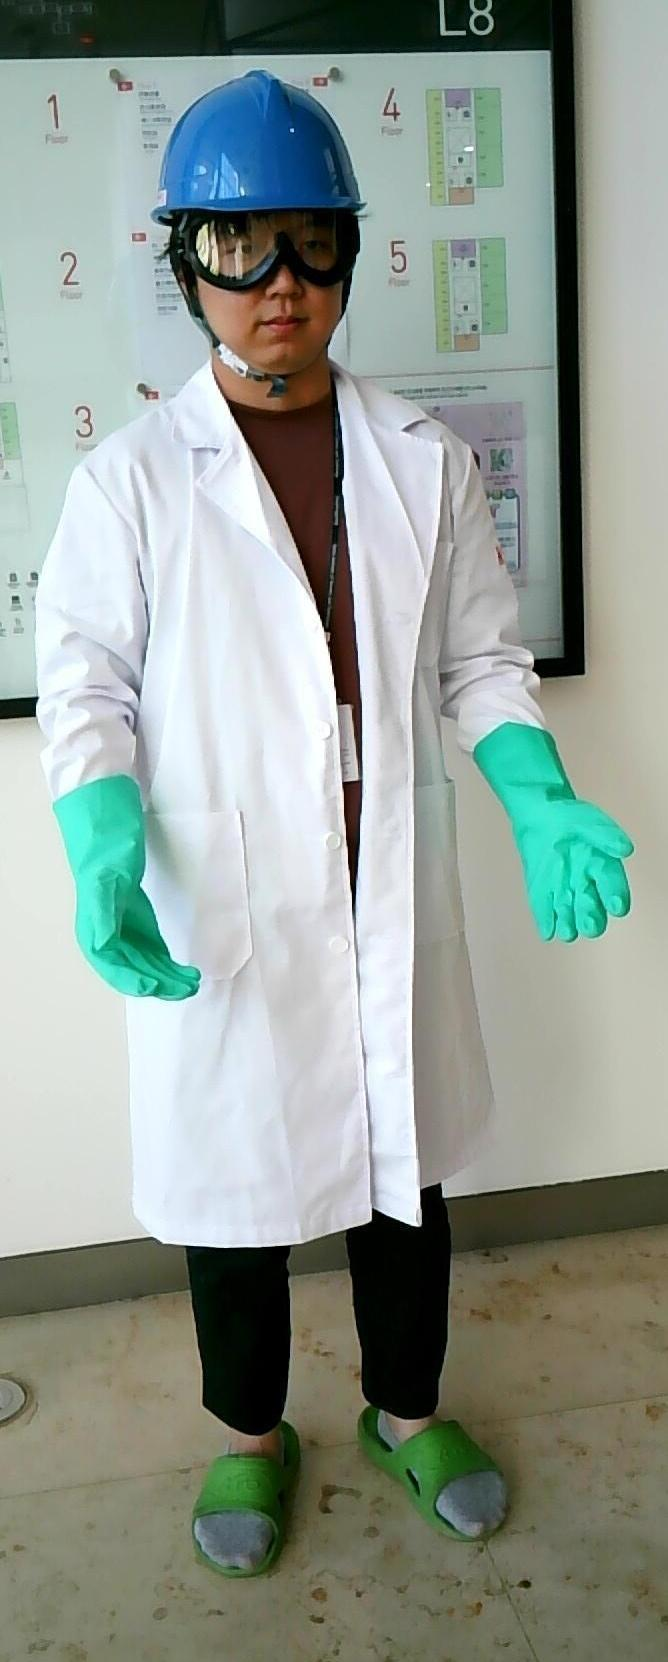lab_coat: (156, 438, 468, 1233)
